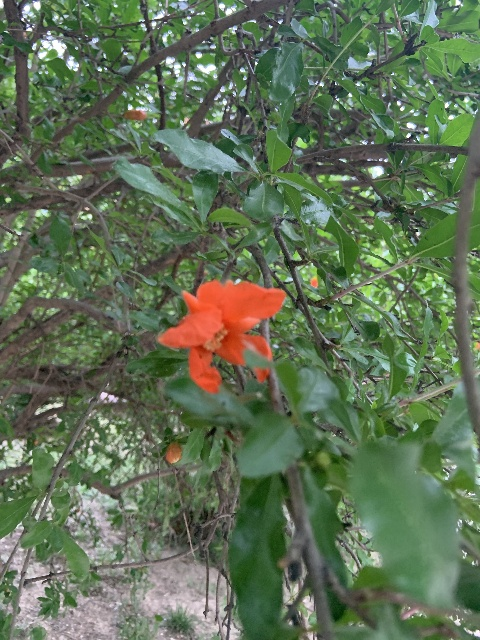bud: (165, 442, 182, 463), (122, 109, 147, 120)
flower: (157, 277, 286, 392)
